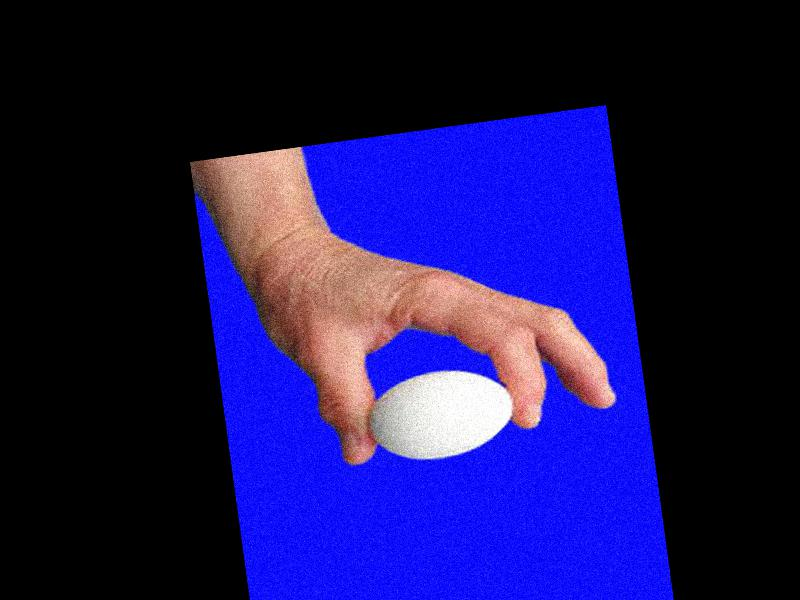Eggs: (363, 361, 521, 466)
